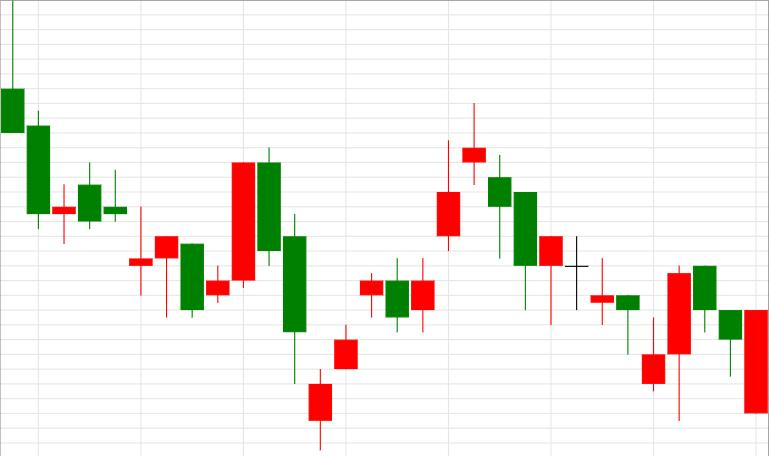evening_star_fall: (309, 104, 511, 451)
